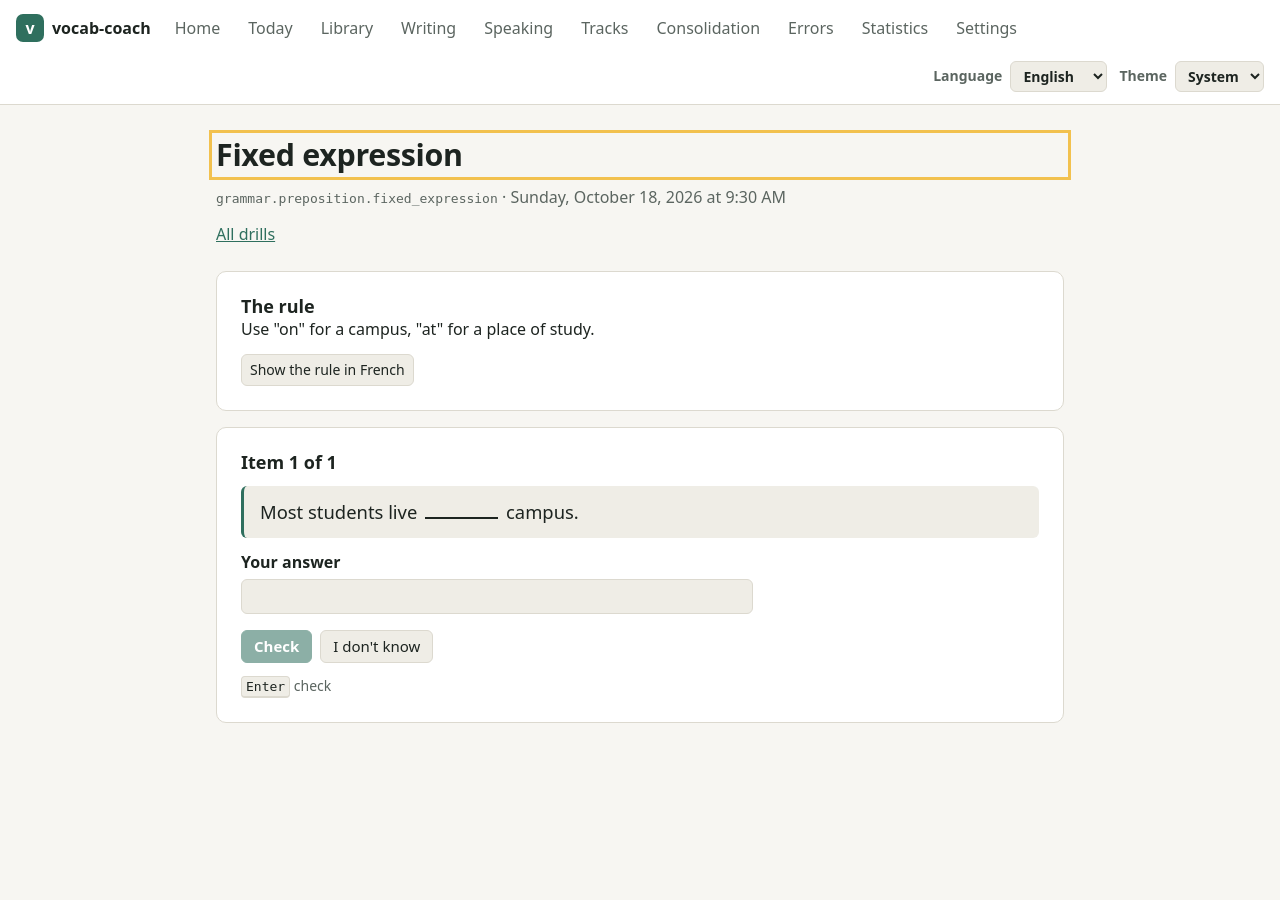
Test: Drill player: a whole drill › measures the response time from the item being shown to the answer
Type "on" into the field labelled "Your answer" at [497, 596], box [241, 579, 753, 614]
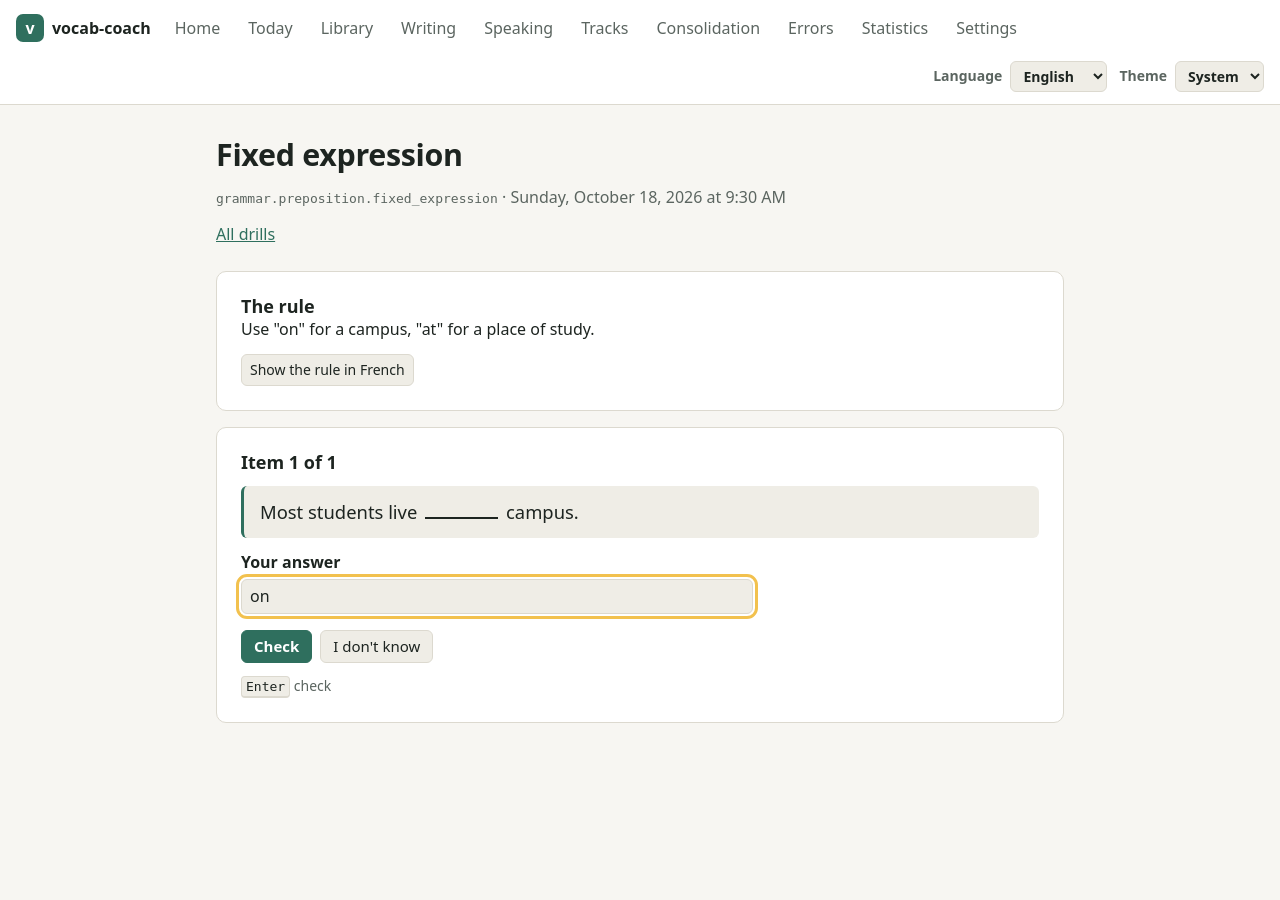
Press Enter
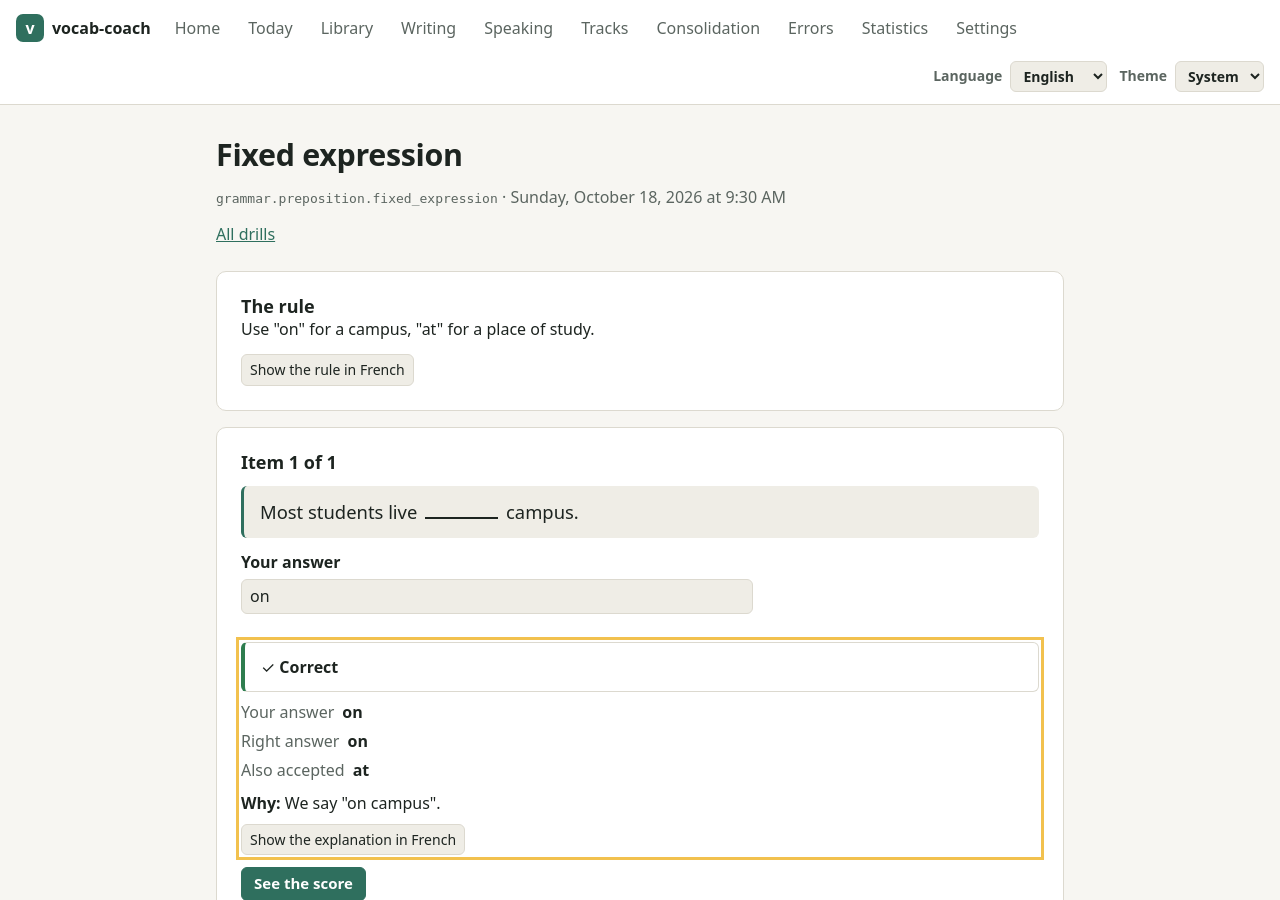
Check: the element named "Result" is shown, box [241, 642, 1039, 855]
